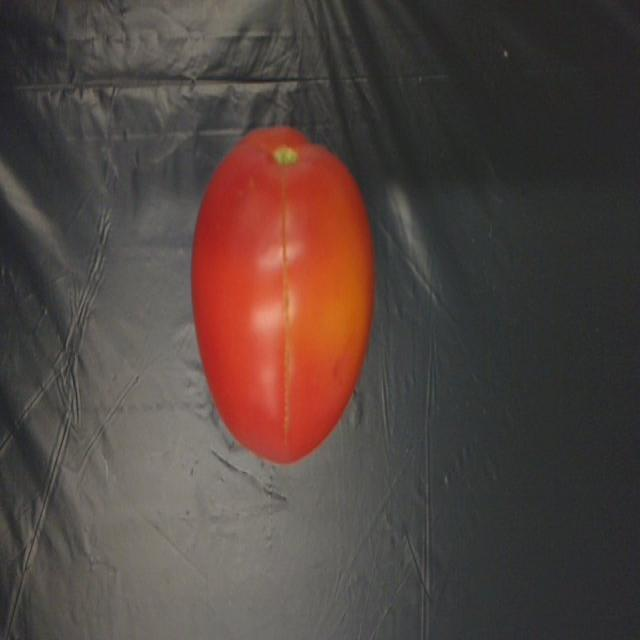sari: (182, 99, 397, 471)
